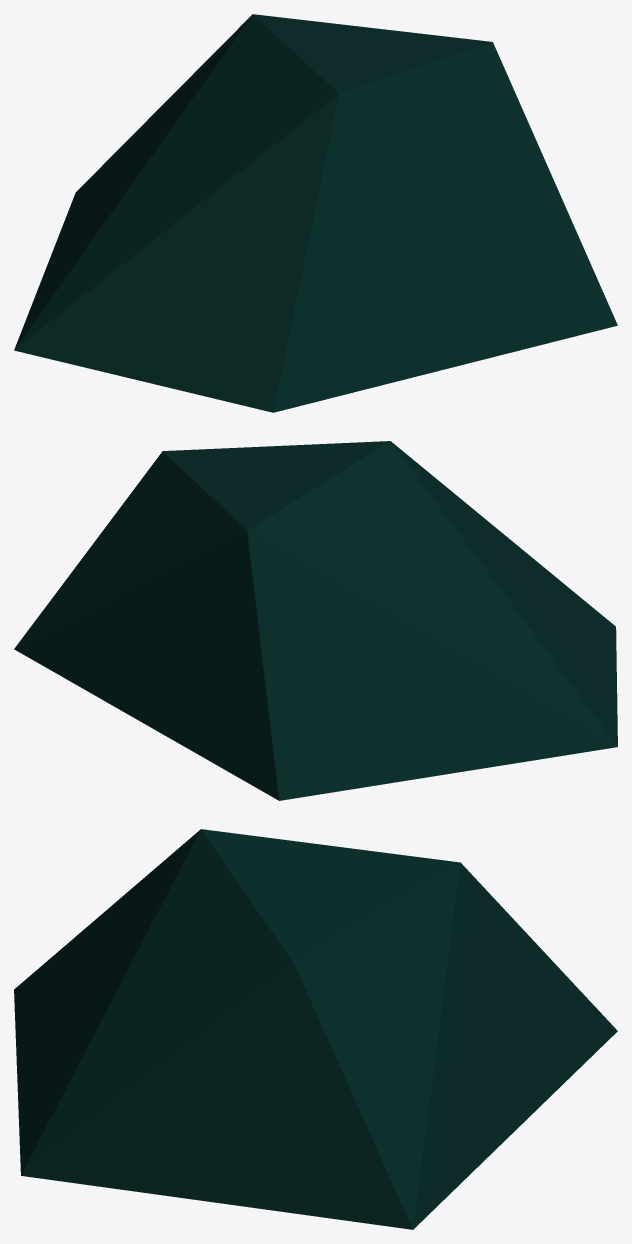
The model's file is Rock A NEW.fbx.
The picture shows the model from 3 angles, top to bottom: view 1: azimuth 30°, elevation 25°; view 2: azimuth 150°, elevation 25°; view 3: azimuth 270°, elevation 25°; orthographic projection. The views are drawn at different scales.
Visible parts, largest first — view 1: Plane001; view 2: Plane001; view 3: Plane001.
Part boxes in pixels (bbox=[...]): Plane001: bbox=[14, 14, 617, 412]; Plane001: bbox=[14, 441, 617, 800]; Plane001: bbox=[14, 829, 617, 1229].
Bounding box in the file's own units: 10.15 × 3.68 × 8.35.
